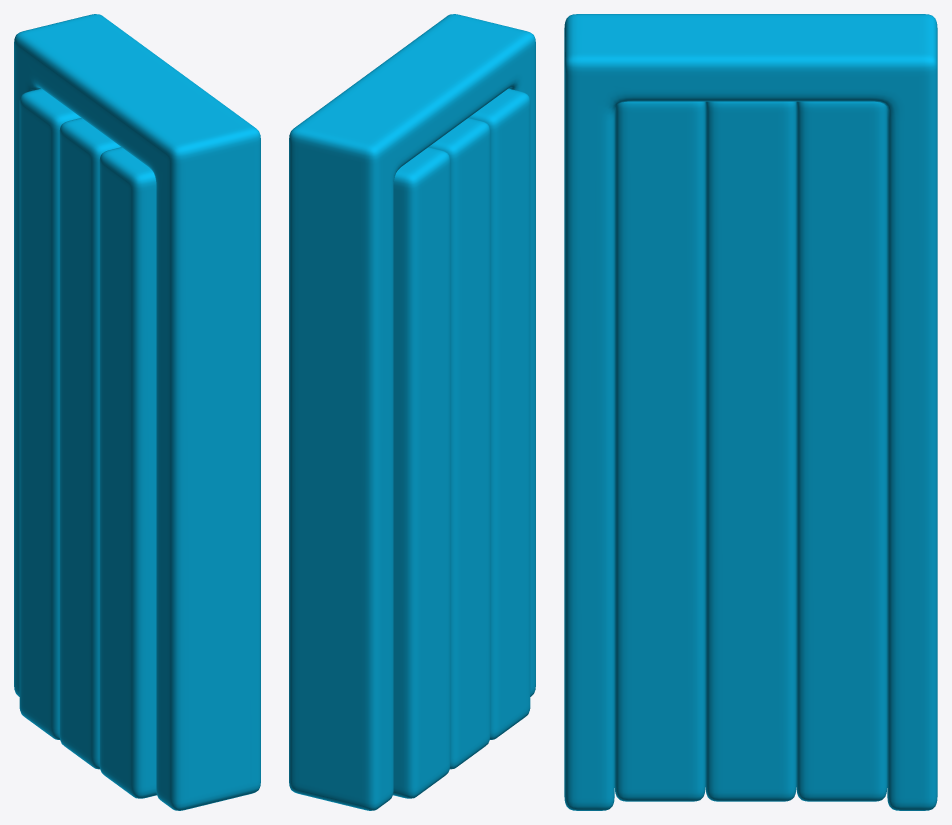
File: SM_Clay_Door_03.fbx
3 renders of one model, left to right at view 1: azimuth 30°, elevation 25°; view 2: azimuth 150°, elevation 25°; view 3: azimuth 270°, elevation 25°, orthographic. The views are drawn at different scales.
Visible parts, largest first — view 1: SM_Clay_Door_03; view 2: SM_Clay_Door_03; view 3: SM_Clay_Door_03.
Part boxes in pixels (x1=…): SM_Clay_Door_03: x1=14, y1=14, x2=260, y2=810; SM_Clay_Door_03: x1=289, y1=14, x2=535, y2=810; SM_Clay_Door_03: x1=564, y1=14, x2=937, y2=810.
Bounding box in the file's own units: 0.2729 × 1.64 × 0.7333.
